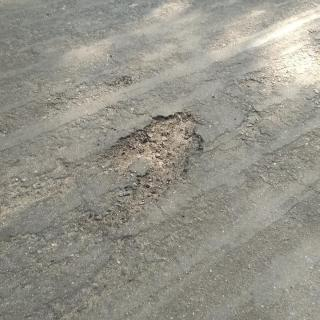pothole: (99, 110, 204, 228)
